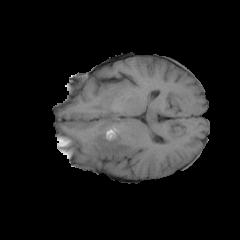glioma: (91, 126, 132, 156)
